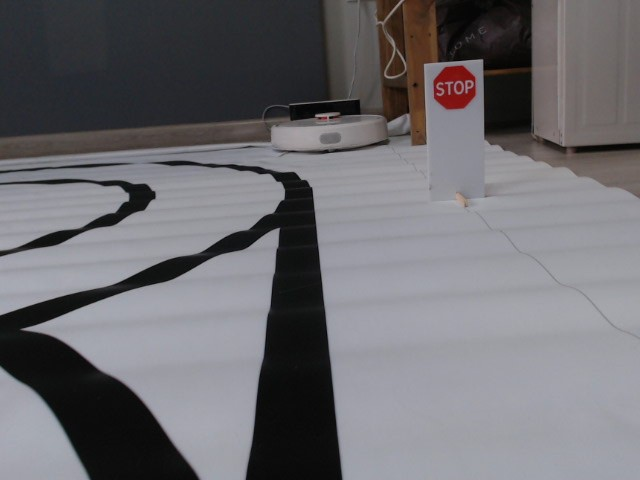Stop: (432, 65, 477, 110)
